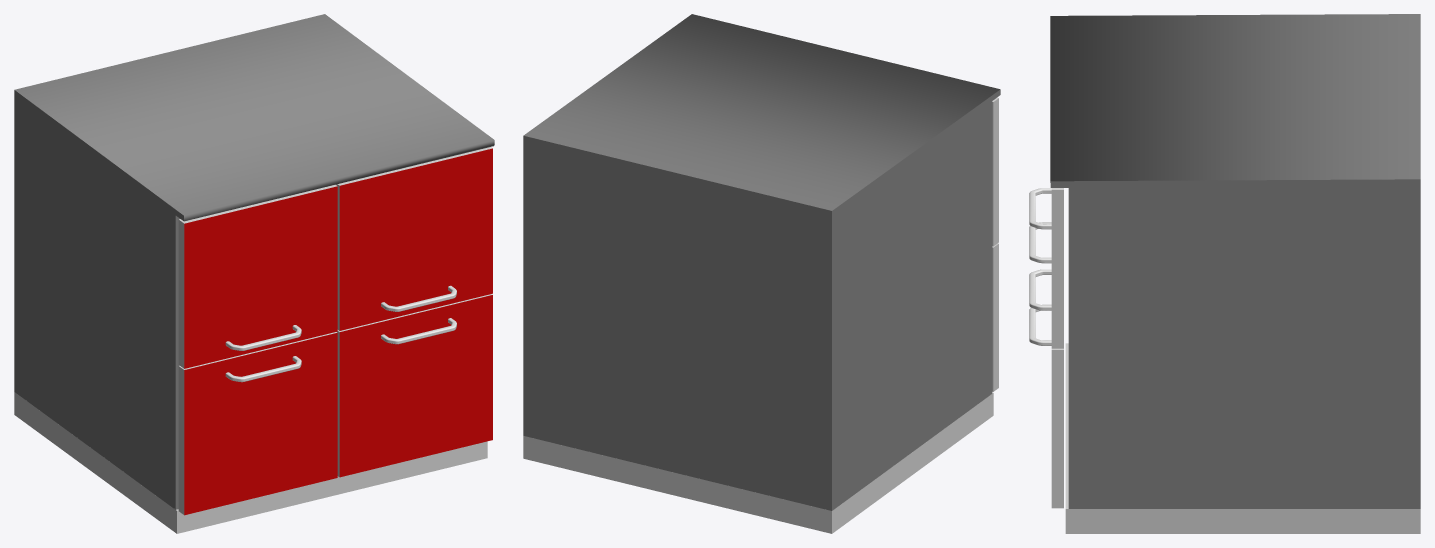
The model's file is sh-lp-mobiletto-grande.glb.
3 views of the same model, side by side, from view 1: azimuth 30°, elevation 25°; view 2: azimuth 150°, elevation 25°; view 3: azimuth 270°, elevation 25° (orthographic). The views are drawn at different scales.
Parts seen in each view (by area): view 1: Rectangle18_1, Box612_5, Box61_4, Loft22_2; view 2: Rectangle18_1, Box61_4; view 3: Rectangle18_1, Box61_4, Loft22_2.
Boxes of the visible parts, x1,y1,x2,y2 form: Rectangle18_1: [14, 14, 494, 509]; Box612_5: [184, 148, 492, 515]; Box61_4: [14, 147, 492, 533]; Loft22_2: [225, 285, 456, 382]; Rectangle18_1: [523, 14, 1000, 510]; Box61_4: [523, 97, 998, 533]; Rectangle18_1: [1050, 14, 1420, 508]; Box61_4: [1051, 188, 1420, 533]; Loft22_2: [1029, 188, 1051, 345].
Size of the model in its own units: 1 by 1 by 1.
